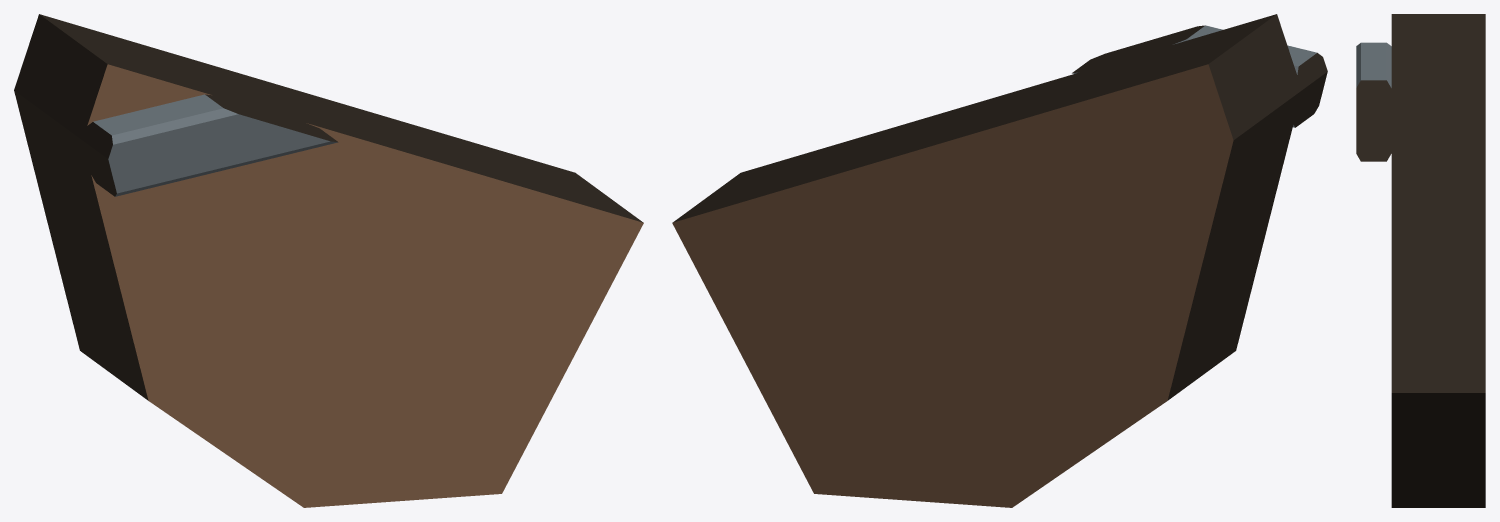
The model's file is SM_DoorShard_03_17.fbx.
3 views of the same model, side by side, from view 1: azimuth 30°, elevation 25°; view 2: azimuth 150°, elevation 25°; view 3: azimuth 270°, elevation 25° (orthographic). The views are drawn at different scales.
Parts seen in each view (by area): view 1: SM_DoorShard_03_17; view 2: SM_DoorShard_03_17; view 3: SM_DoorShard_03_17.
Boxes of the visible parts, x1,y1,x2,y2 form: SM_DoorShard_03_17: (14, 14, 643, 507); SM_DoorShard_03_17: (672, 14, 1327, 507); SM_DoorShard_03_17: (1356, 14, 1485, 507).
Bounding box in the file's own units: 75.64 × 22 × 67.71.
